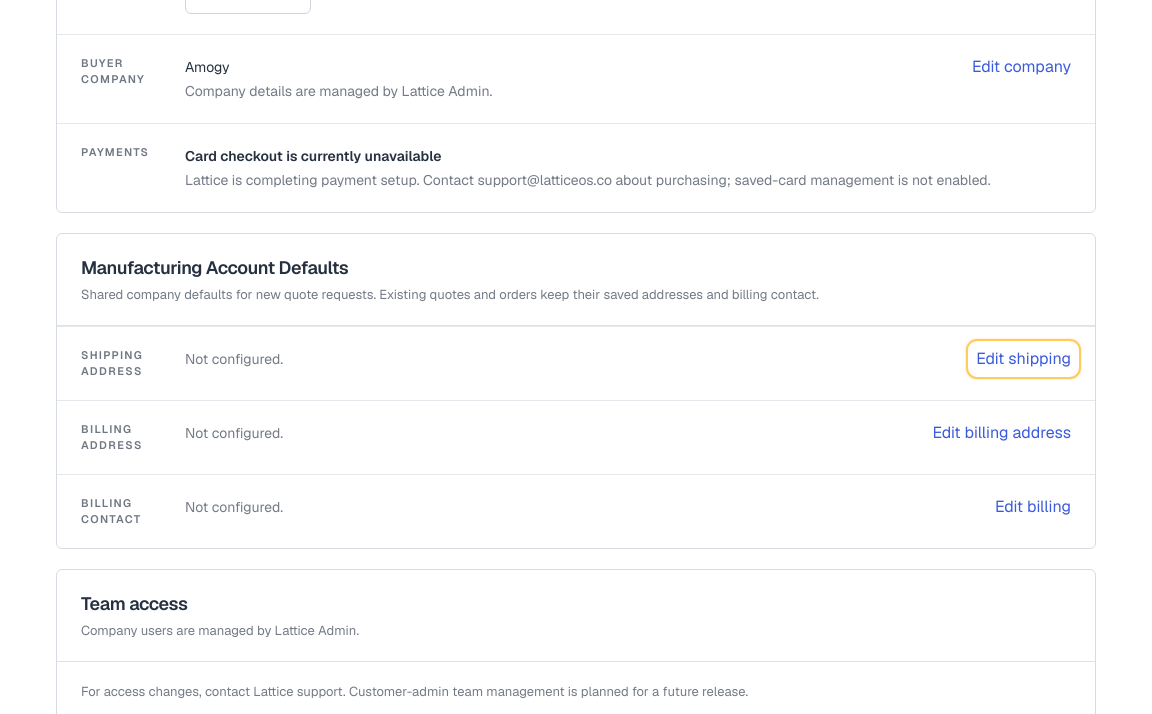
Test: AccountSettingsWorkspace › guides a quote visitor to shipping until they open the editor, without saving changes
(page scrolled)
Check: the field labelled "Delivery Attn:" is not shown
Click the button "Edit shipping": (1024, 358) 968,340 -> 1079,376
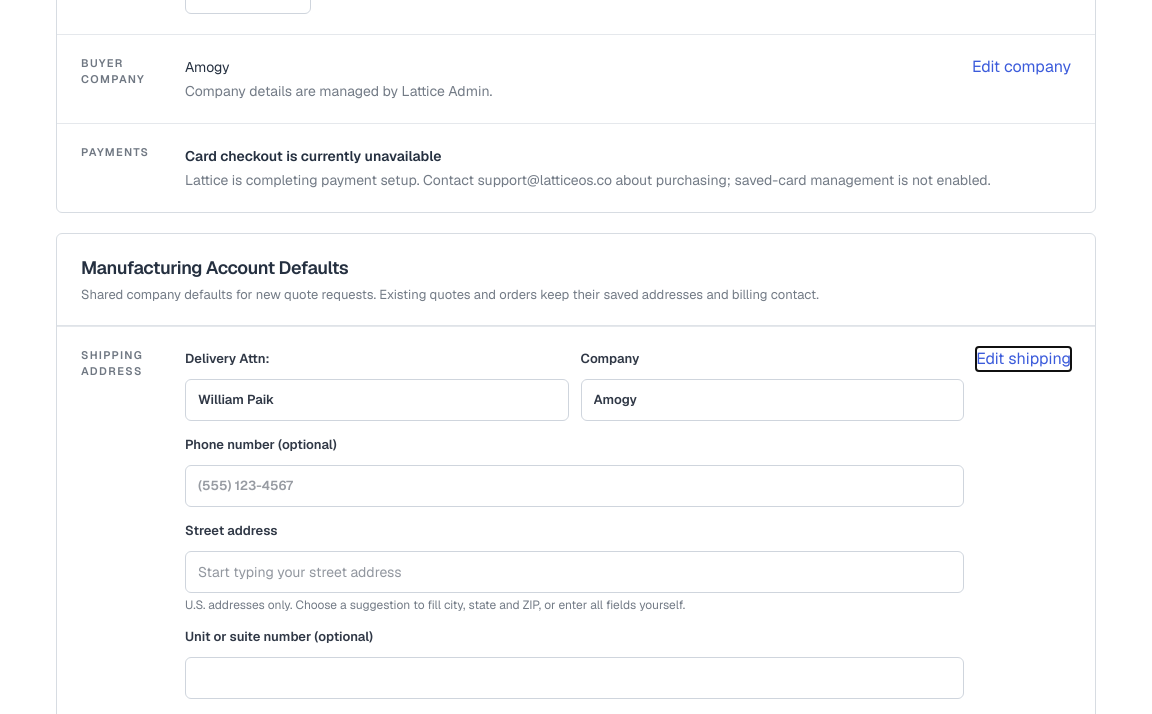
Check: the field labelled "Delivery Attn:" is shown, box 185,378 -> 569,420
